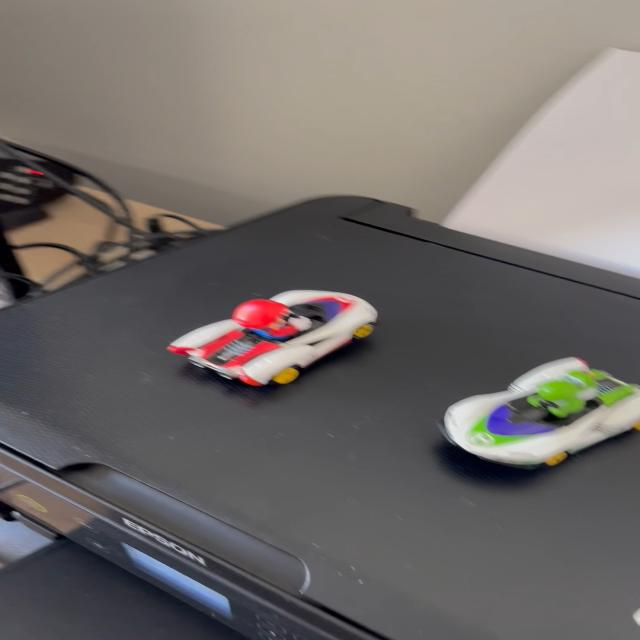mario: (154, 292, 401, 399)
yoshi: (429, 350, 640, 480)
